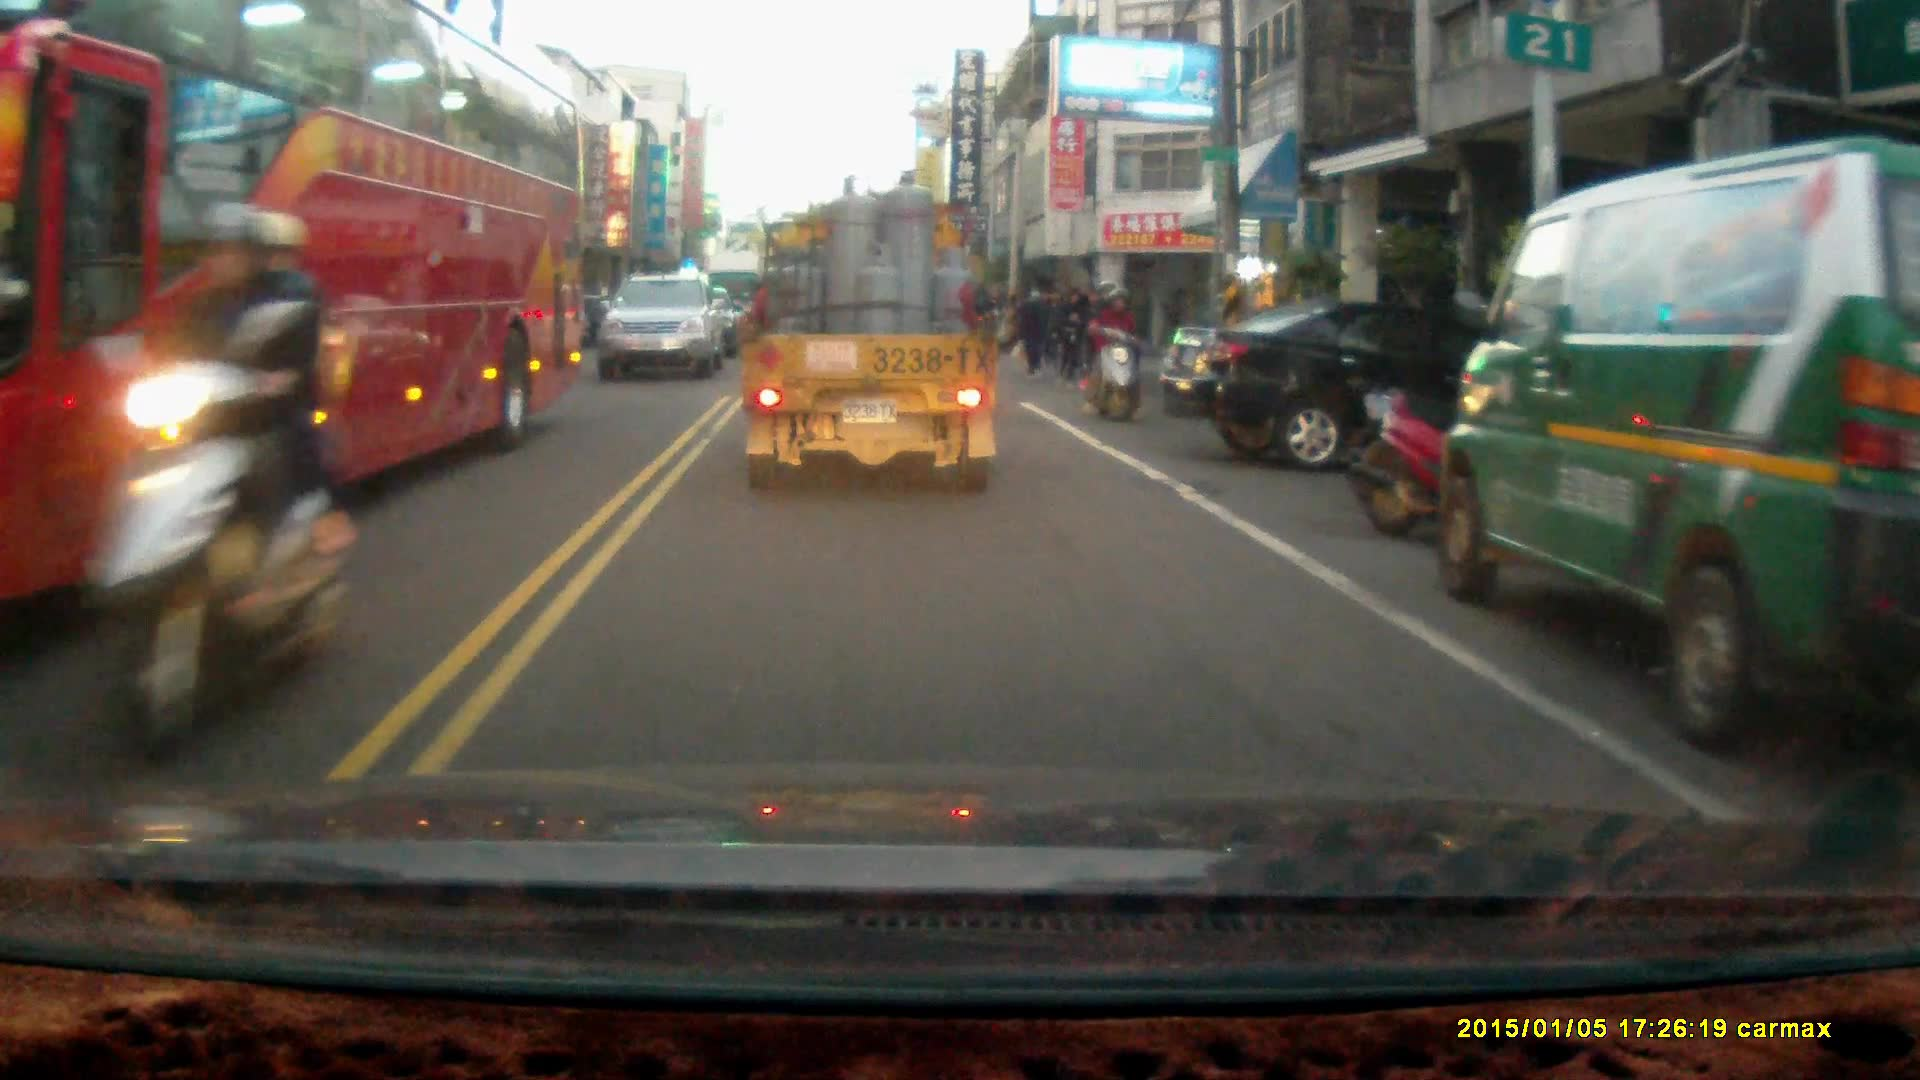pedestrian: (1053, 285, 1089, 388), (1018, 285, 1053, 372)
rider: (73, 197, 356, 771), (1084, 276, 1147, 425)
vehicle: (1, 7, 596, 632), (1435, 131, 1920, 758), (739, 167, 1004, 494), (1169, 300, 1541, 475), (602, 273, 729, 382)
